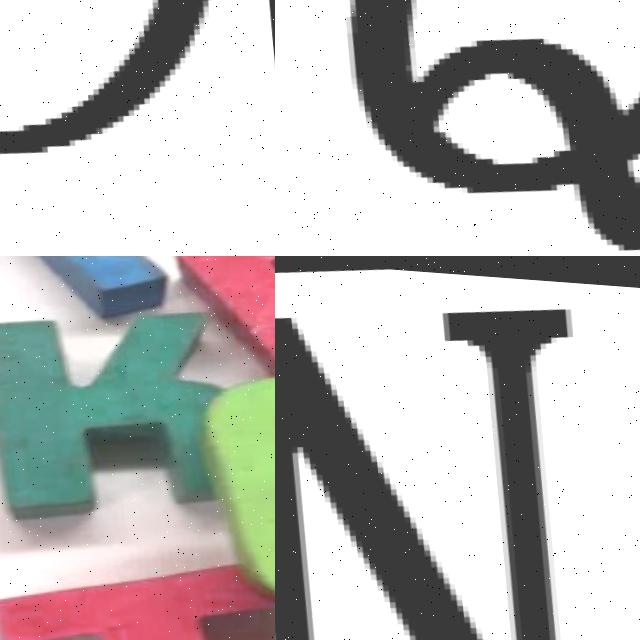C: (201, 337, 275, 616)
K: (0, 294, 267, 543)
N: (275, 260, 633, 640)
Q: (297, 0, 640, 256)
T: (0, 256, 167, 324)
